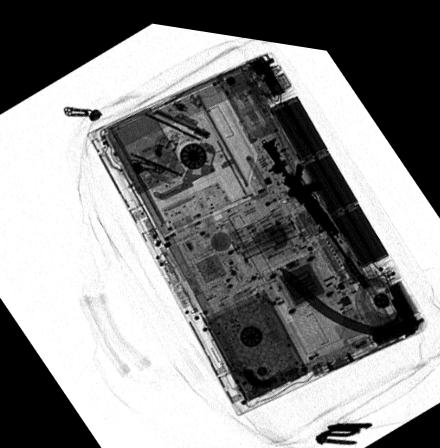Gun: (258, 126, 372, 281)
